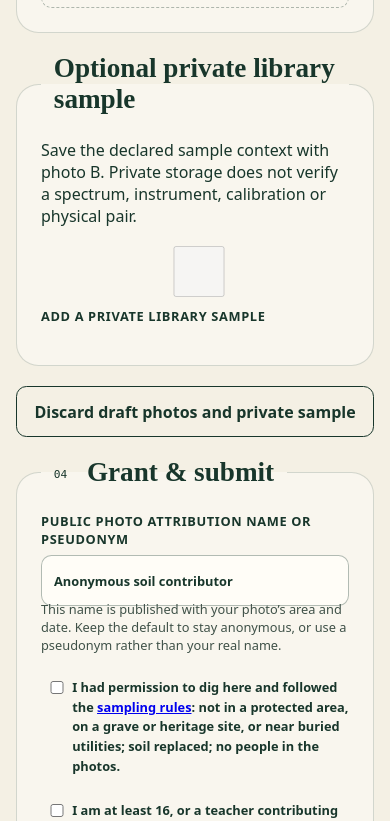
Test: does not refill discarded state from delayed initial restores or delete fresh successor drafts
(page scrolled)
Click the button "Discard draft photos and private sample". click: click(195, 412)
box: [16,386,374,437]
(page scrolled)
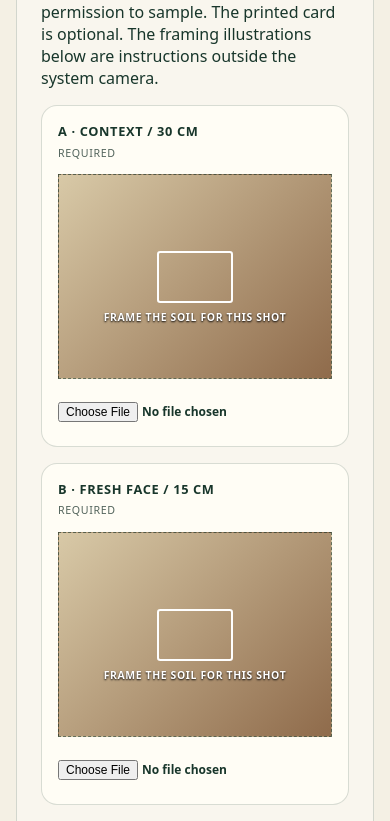
expect the file field labelled "A · Context / 30 cm Required Frame the soil for this shot" is enabled: met, box [58,394,332,430]
